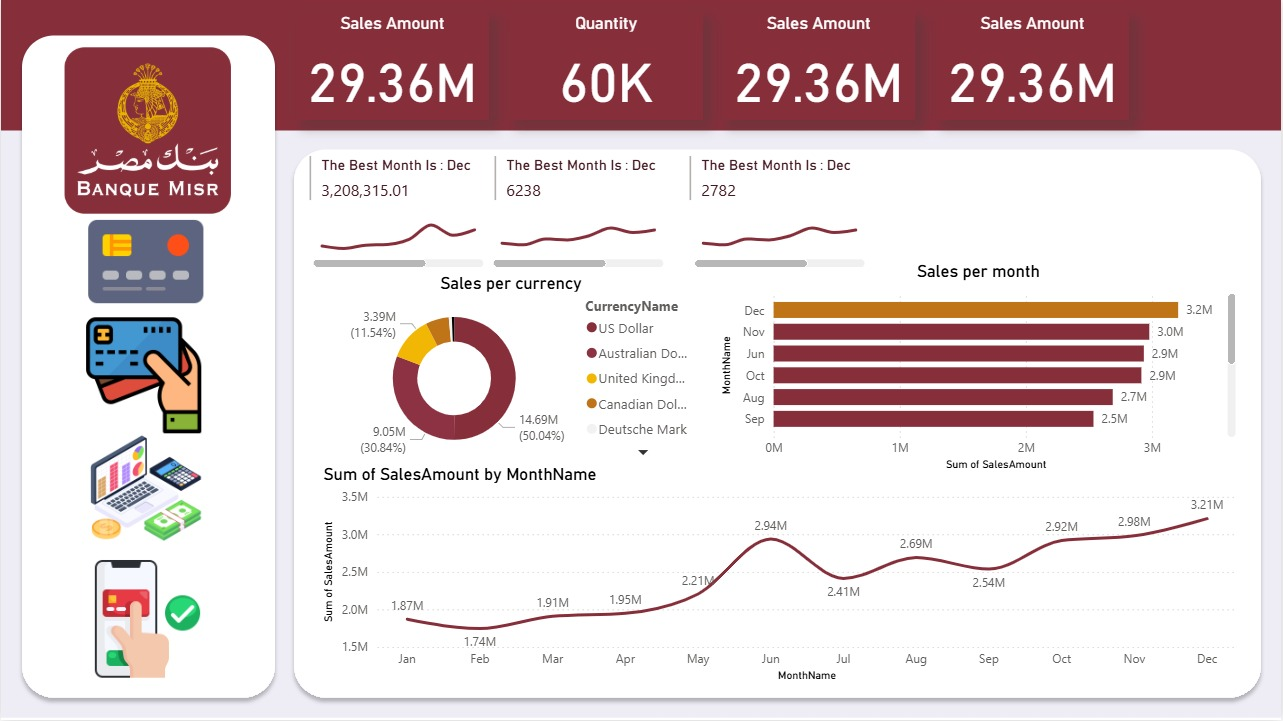

The dashboard page shown, as its layout file describes it:
{"tool":"powerbi","page":{"name":"Banque Misr","canvas":[1280,720],"ordinal":0},"visuals":[{"type":"image","box":[59.1,42.2,176.1,176.1],"z":0},{"type":"card","title":"Sales Amount","fields":{"Values":["Sum(fact_InternetSales.SalesAmount)"]},"box":[295.6,12.4,193,107.4],"z":1000},{"type":"donutChart","title":"Sales per currency","fields":{"Category":["dim_Currency.CurrencyName"],"Y":["Sum(fact_InternetSales.SalesAmount)"]},"box":[317.3,272.7,384.9,193],"z":2000},{"type":"barChart","title":"Sales per month","fields":{"Y":["Sum(fact_InternetSales.SalesAmount)"],"Category":["Calender.MonthName"]},"box":[715.4,261.8,524.8,214.7],"z":3000},{"type":"card","title":"Quantity","fields":{"Values":["Sum(fact_InternetSales.OrderQuantity)"]},"box":[508.7,12.4,193,107.4],"z":4000},{"type":"card","title":"Sales Amount","fields":{"Values":["Sum(fact_InternetSales.SalesAmount)"]},"box":[721.9,12.4,193,107.4],"z":5000},{"type":"card","title":"Sales Amount","fields":{"Values":["Sum(fact_InternetSales.SalesAmount)"]},"box":[935,12.4,193,107.4],"z":6000},{"type":"lineChart","fields":{"Category":["Calender.MonthName"],"Y":["Sum(fact_InternetSales.SalesAmount)"]},"box":[317.3,463.3,922.9,223.2],"z":7000},{"type":"image","box":[62.7,551.3,167.7,135.1],"z":8000},{"type":"image","box":[67.6,312.5,150.8,125.5],"z":9000},{"type":"image","box":[71.2,424.7,147.2,126.7],"z":10000},{"type":"image","box":[60.3,199.1,170.1,125.5],"z":11000},{"type":"multiRowCard","fields":{"Values":["Calender.Best Month","Sum(fact_InternetSales.SalesAmount)"]},"box":[303.3,150.9,185.2,96.1],"z":12000},{"type":"lineChart","fields":{"Category":["Calender.MonthName"],"Y":["Sum(fact_InternetSales.SalesAmount)"]},"box":[307.5,200,180,72.5],"z":13000},{"type":"multiRowCard","fields":{"Values":["Calender.Best Month","Sum(fact_InternetSales.OrderQuantity)"]},"box":[488.8,151.2,185,67.5],"z":14000},{"type":"lineChart","fields":{"Category":["Calender.MonthName"],"Y":["Sum(fact_InternetSales.OrderQuantity)"]},"box":[487.5,200,180,72.5],"z":15000},{"type":"multiRowCard","fields":{"Values":["Calender.Best Month","fact_InternetSales.SalesOrderNumber"]},"box":[683.8,151.2,185,67.5],"z":16000},{"type":"lineChart","fields":{"Category":["Calender.MonthName"],"Y":["CountNonNull(fact_InternetSales.SalesOrderNumber)"]},"box":[688.8,200,180,72.5],"z":17000}]}

Visuals, with their boxes in screenshot pixels (x1, y1, x2, y2), scaled from the page's 1280x720 canvas onto the 1283x721 screenshot:
image: locate(59, 42, 236, 219)
"Sales Amount" card: locate(296, 12, 490, 120)
"Sales per currency" donutChart: locate(318, 273, 704, 466)
"Sales per month" barChart: locate(717, 262, 1243, 477)
"Quantity" card: locate(510, 12, 703, 120)
"Sales Amount" card: locate(724, 12, 917, 120)
"Sales Amount" card: locate(937, 12, 1131, 120)
lineChart - Calender.MonthName x Sum(fact_InternetSales.SalesAmount): locate(318, 464, 1243, 687)
image: locate(63, 552, 231, 687)
image: locate(68, 313, 219, 439)
image: locate(71, 425, 219, 552)
image: locate(60, 199, 231, 325)
multiRowCard - Calender.Best Month x Sum(fact_InternetSales.SalesAmount): locate(304, 151, 490, 247)
lineChart - Calender.MonthName x Sum(fact_InternetSales.SalesAmount): locate(308, 200, 489, 273)
multiRowCard - Calender.Best Month x Sum(fact_InternetSales.OrderQuantity): locate(490, 151, 675, 219)
lineChart - Calender.MonthName x Sum(fact_InternetSales.OrderQuantity): locate(489, 200, 669, 273)
multiRowCard - Calender.Best Month x fact_InternetSales.SalesOrderNumber: locate(685, 151, 871, 219)
lineChart - Calender.MonthName x CountNonNull(fact_InternetSales.SalesOrderNumber): locate(690, 200, 871, 273)
